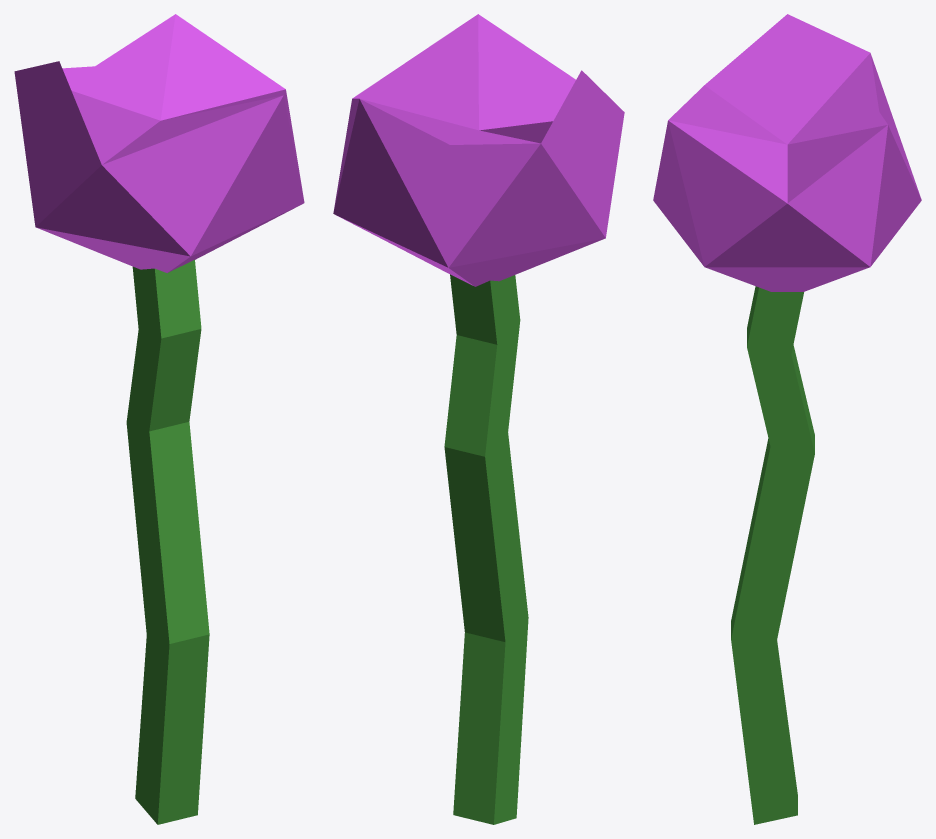
The model's file is chrysanthemum.fbx.
3 views of the same model, side by side, from view 1: azimuth 30°, elevation 25°; view 2: azimuth 150°, elevation 25°; view 3: azimuth 270°, elevation 25° (orthographic). The views are drawn at different scales.
Visible parts, largest first — view 1: Plane; view 2: Plane; view 3: Plane.
Boxes of the visible parts, x1,y1,x2,y2 form: Plane: (14,14,304,824); Plane: (333,14,624,824); Plane: (653,14,921,824).
Size of the model in its own units: 187 by 551 by 178.
